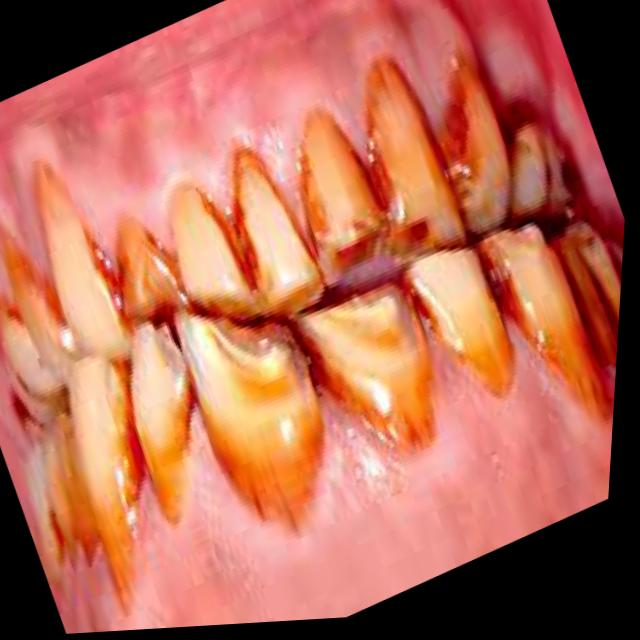tooth-discoloration: (178, 316, 325, 530), (482, 227, 612, 419), (300, 285, 436, 453), (368, 62, 467, 253), (407, 249, 515, 397), (71, 358, 138, 566), (132, 325, 193, 525), (304, 113, 381, 257), (119, 223, 180, 321)
